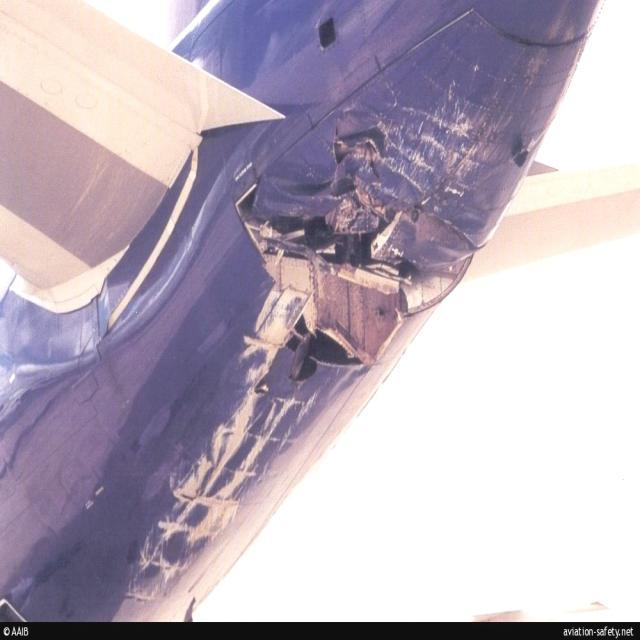crack: (233, 129, 425, 389)
